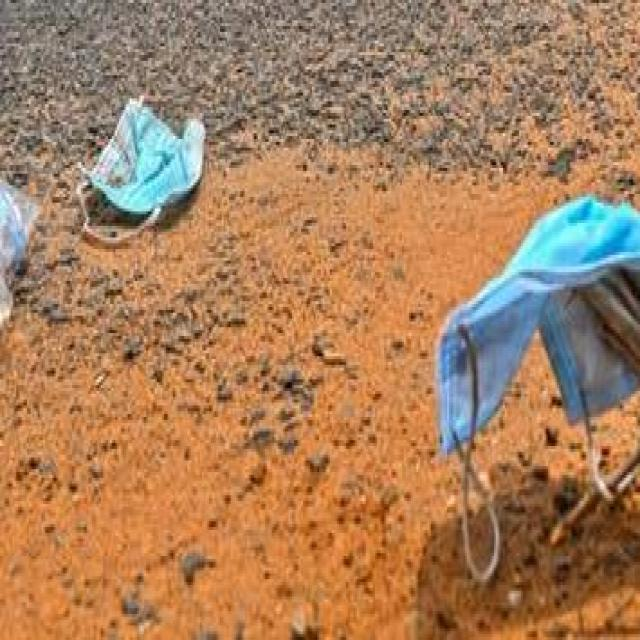non-organic waste: (432, 197, 640, 536), (78, 84, 209, 249)
